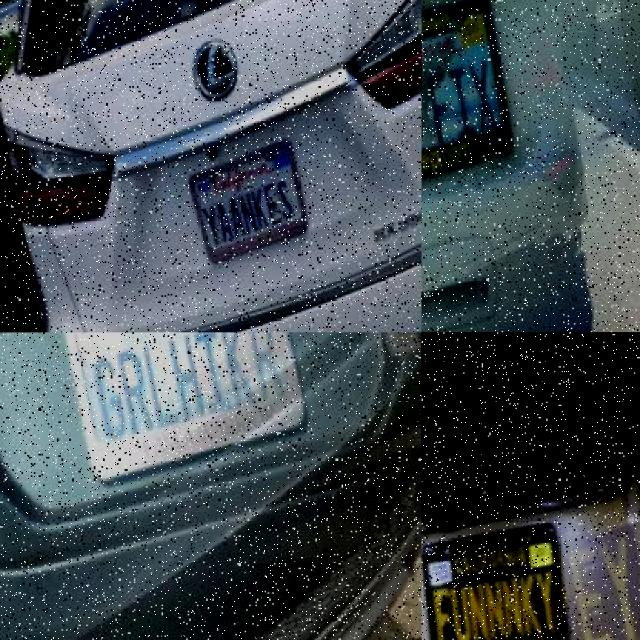licenseplate: (51, 332, 320, 488), (422, 0, 529, 200), (422, 517, 582, 640), (184, 143, 321, 263)
